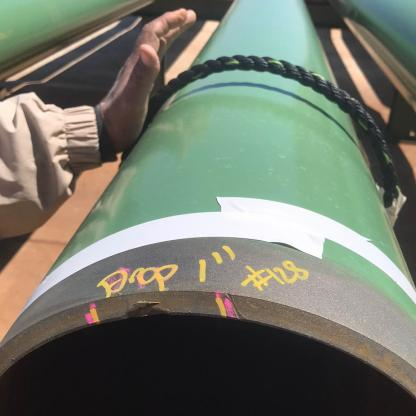Bevel: (124, 297, 171, 322)
